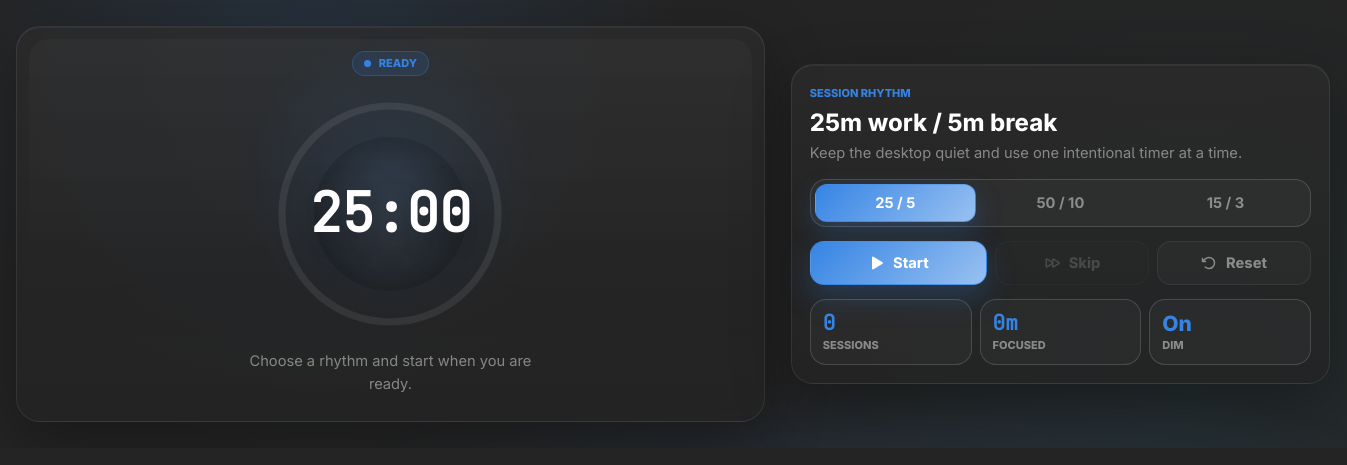
Scenario: Portfolio React interactions › pauses and resumes Focus sessions without resetting the timer label
Expected: the text "25:00" is shown, x1=309 y1=187 x2=471 y2=241
Click the button "Start" at coordinates (898, 263), box x1=810 y1=241 x2=987 y2=285
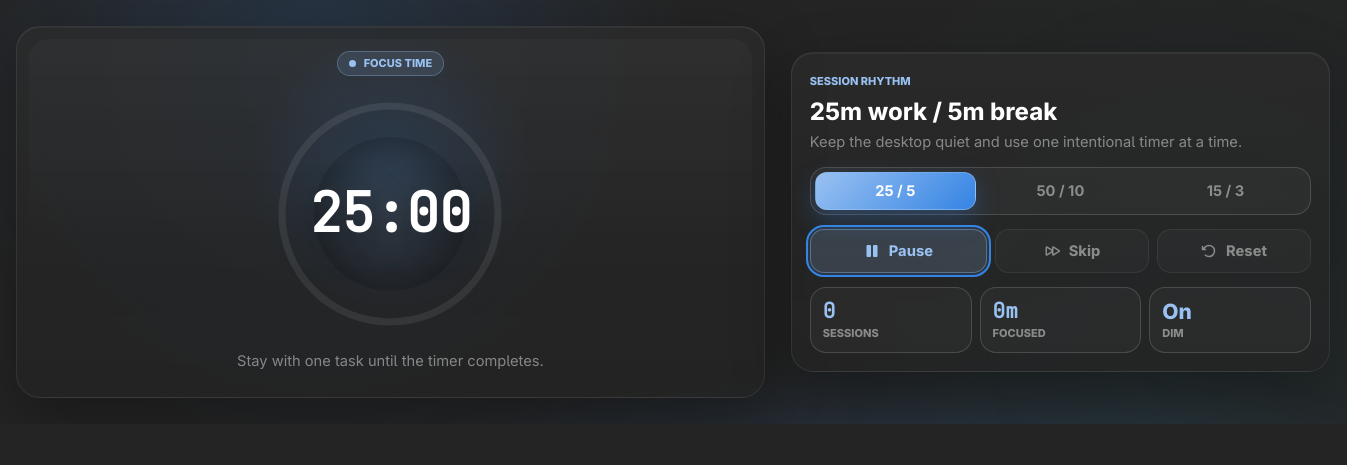
Click the button "Pause" at coordinates (898, 251), box x1=810 y1=229 x2=987 y2=273
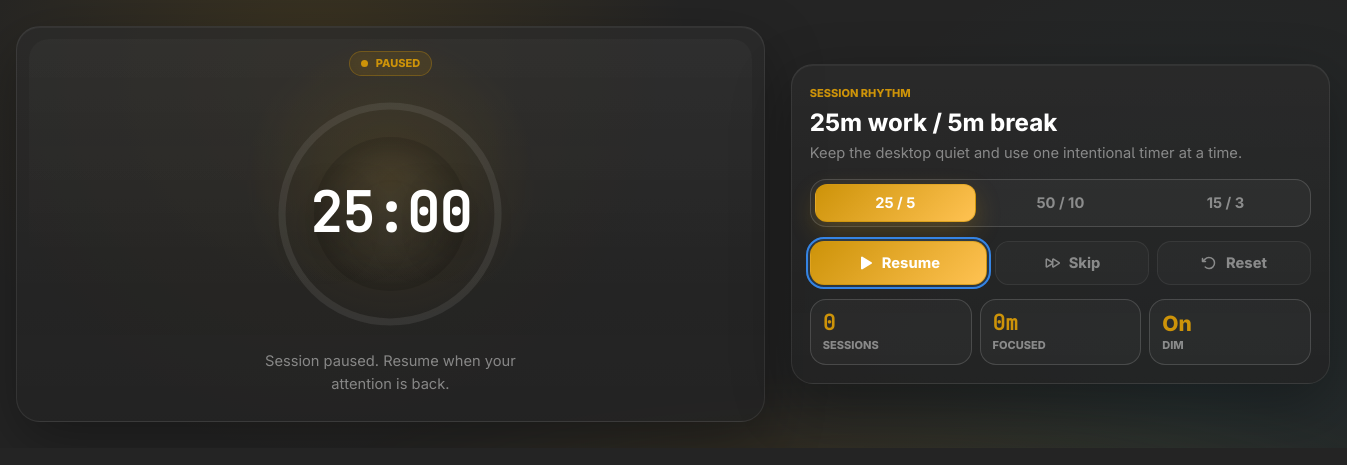
Expected: the text "25:00" is shown, x1=309 y1=187 x2=471 y2=241
Result: the text "Paused" is shown at x1=349 y1=51 x2=432 y2=76
Result: the button "Resume" is shown at x1=810 y1=241 x2=987 y2=285
